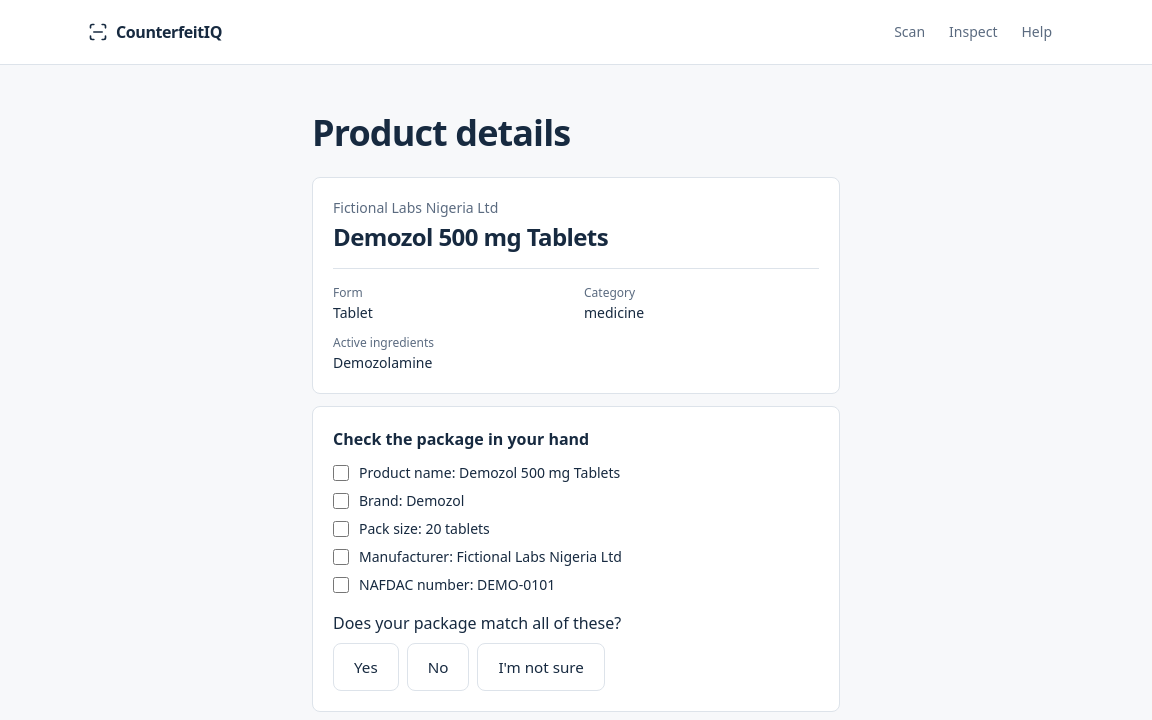
Test case: package checklist › sends I am not sure to a pharmacist
The image size is (1152, 720).
Click the button "I'm not sure".
click(541, 667)  # box [477,643,605,691]
(page scrolled)
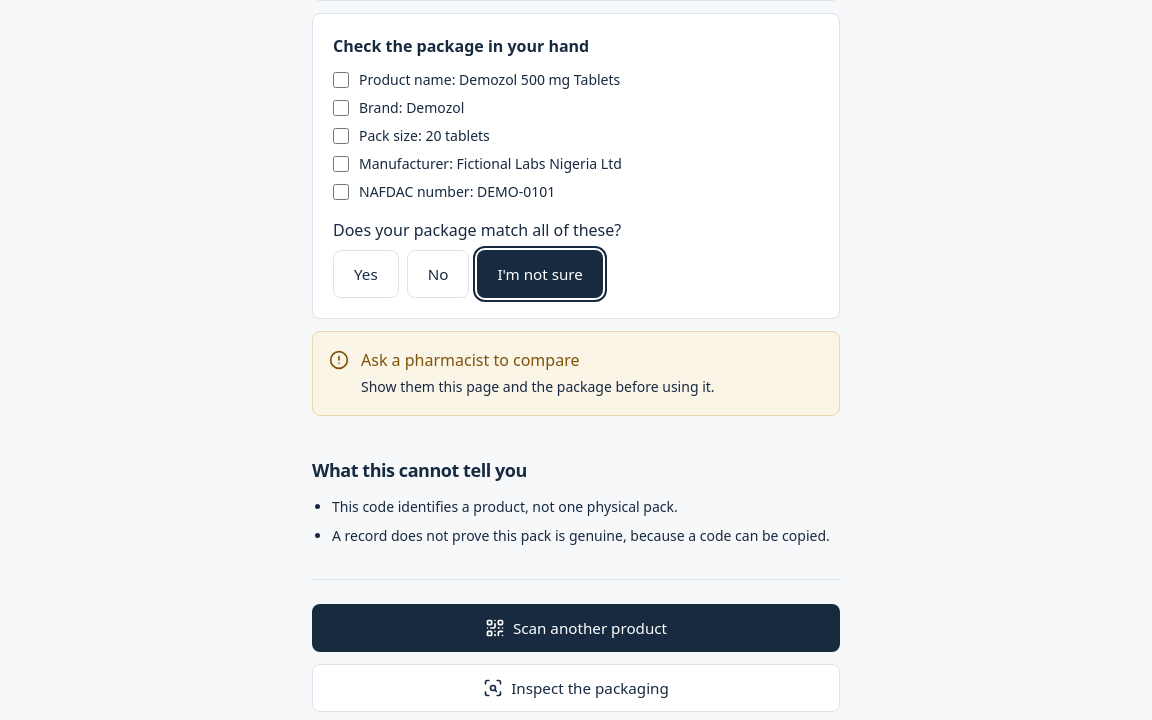
Expected: the text "Ask a pharmacist to compare" is shown, [361,349,580,371]
